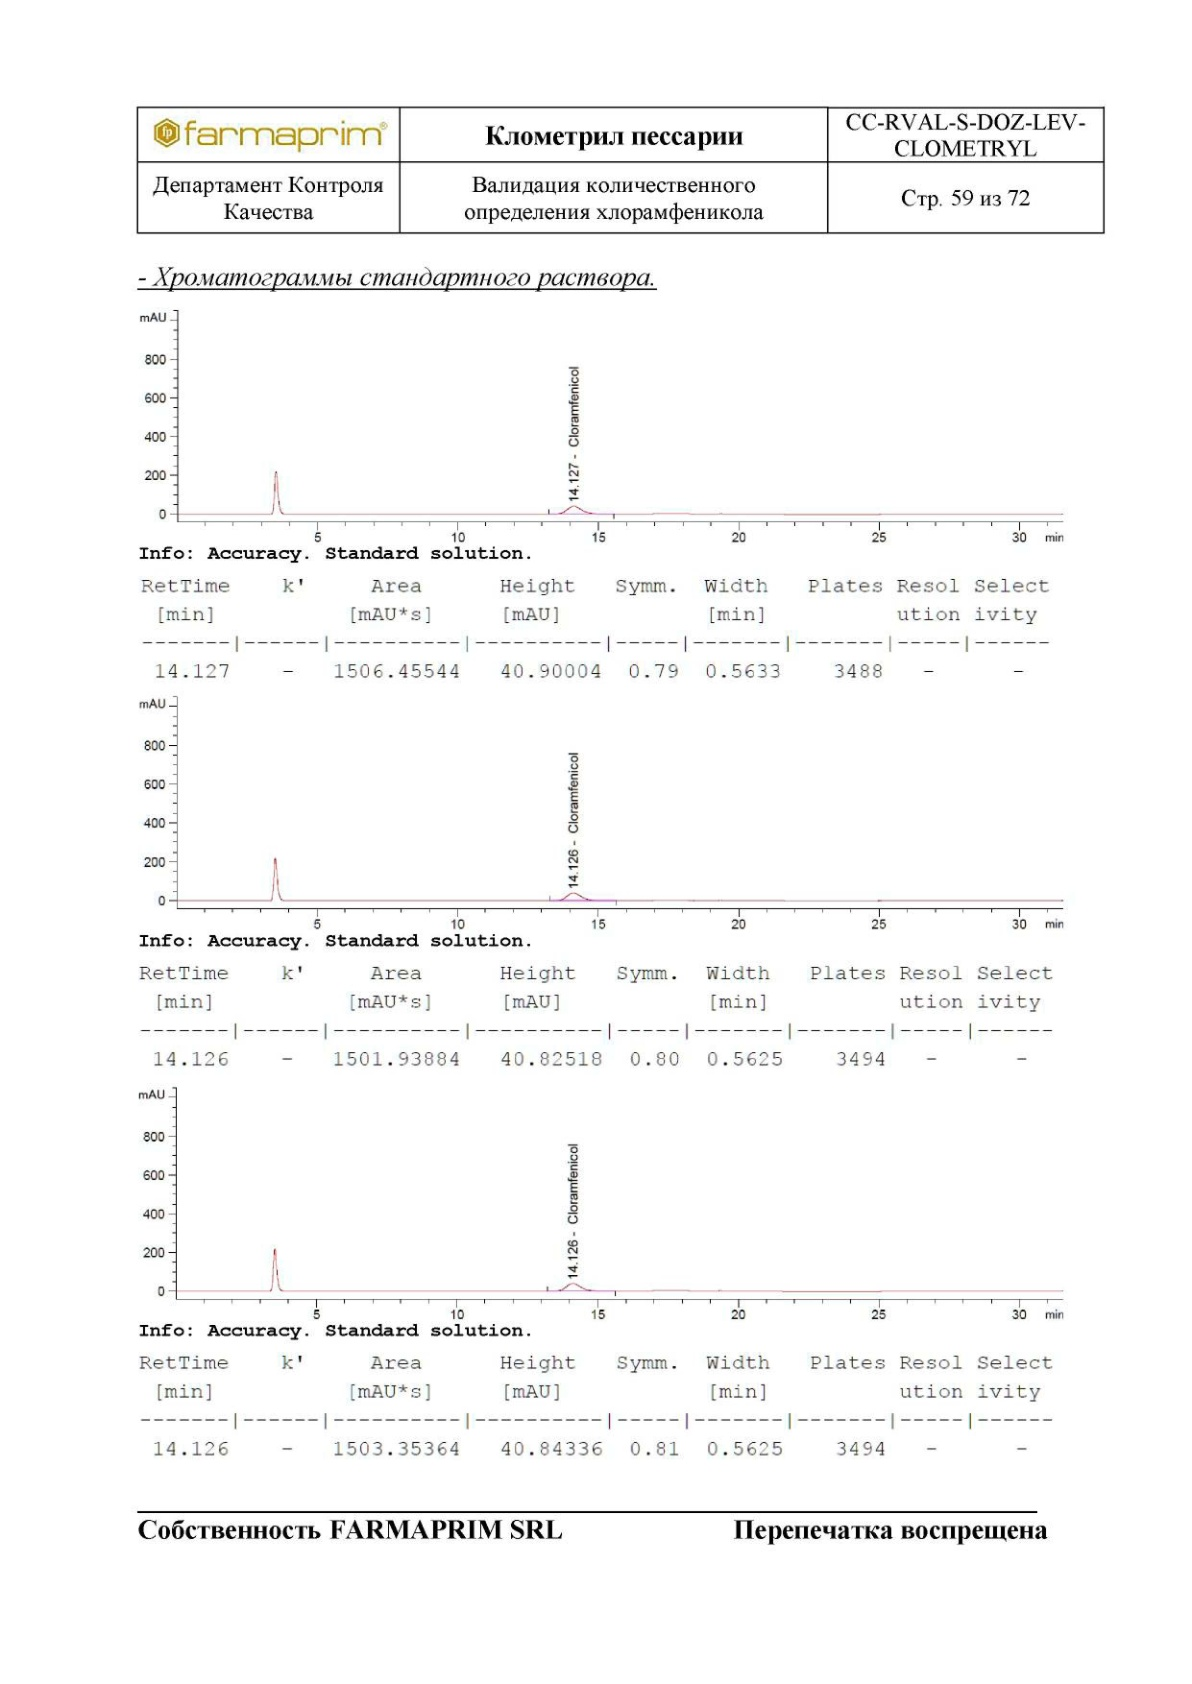full_lined: (133, 104, 1107, 236)
partial_lined: (139, 575, 1053, 690), (135, 1351, 1057, 1464), (137, 961, 1059, 1072)
